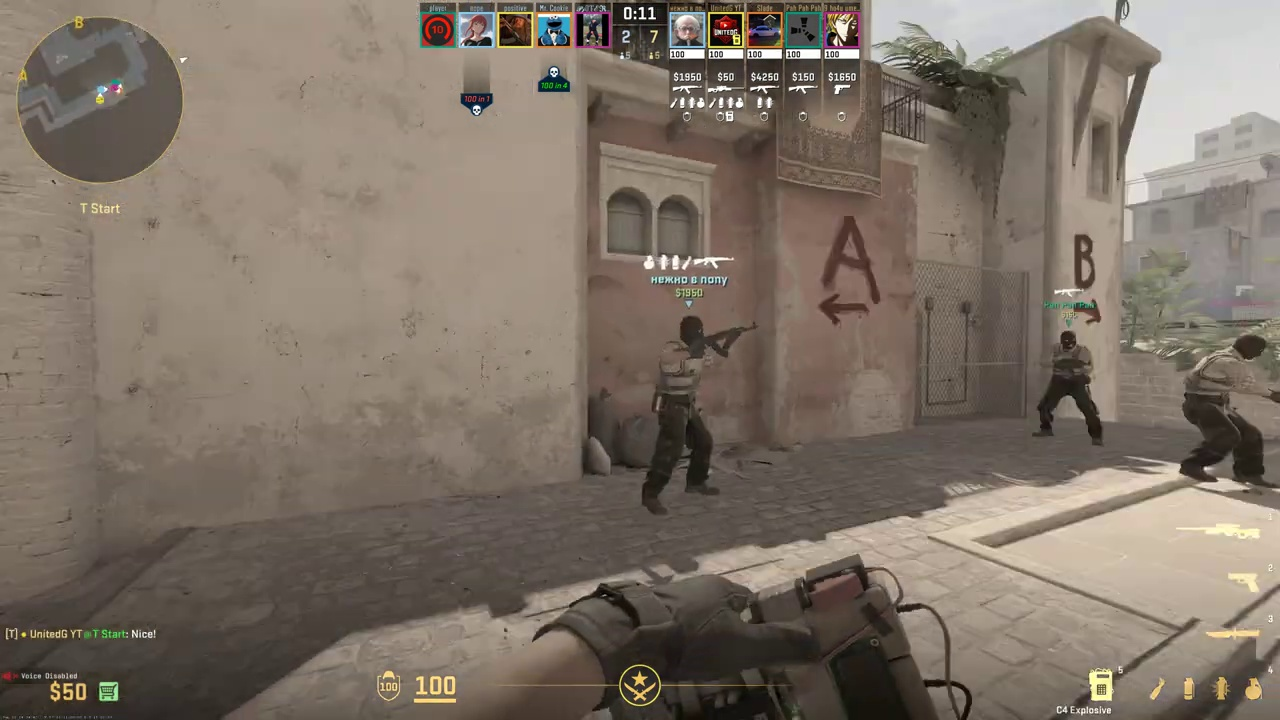Terrorist: (641, 316, 717, 517), (1180, 334, 1279, 488), (1037, 331, 1100, 447)
